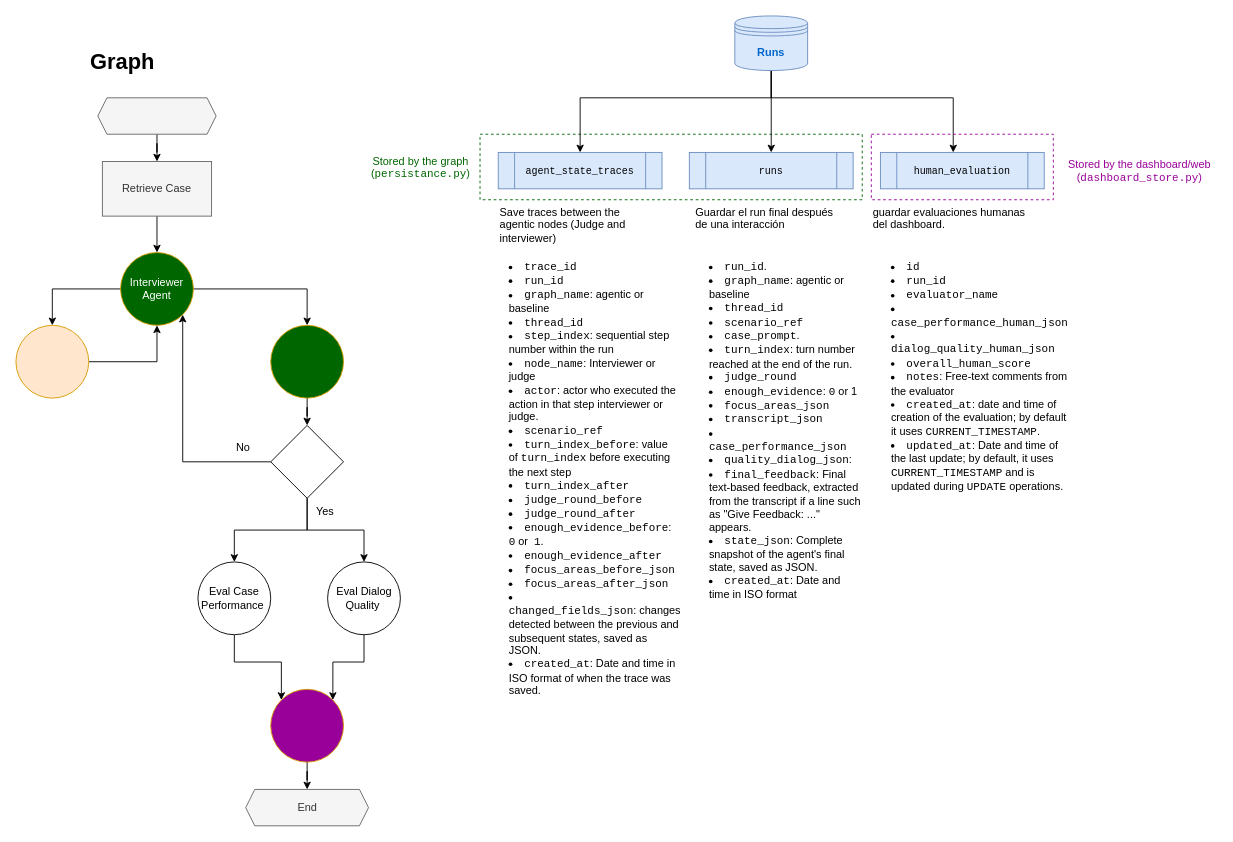
Some shapes in this 1233 by 842 pixel diagram are drawn without their labels. Here are the shapes that lost their labels. From the top down, the centre of each, then its label:
At (156,115): "Start".
At (52,361): "Candidate Agent".
At (307,361): "Judge Agent".
At (307,461): "Enough Evidence".
At (307,725): "Give feedback".
